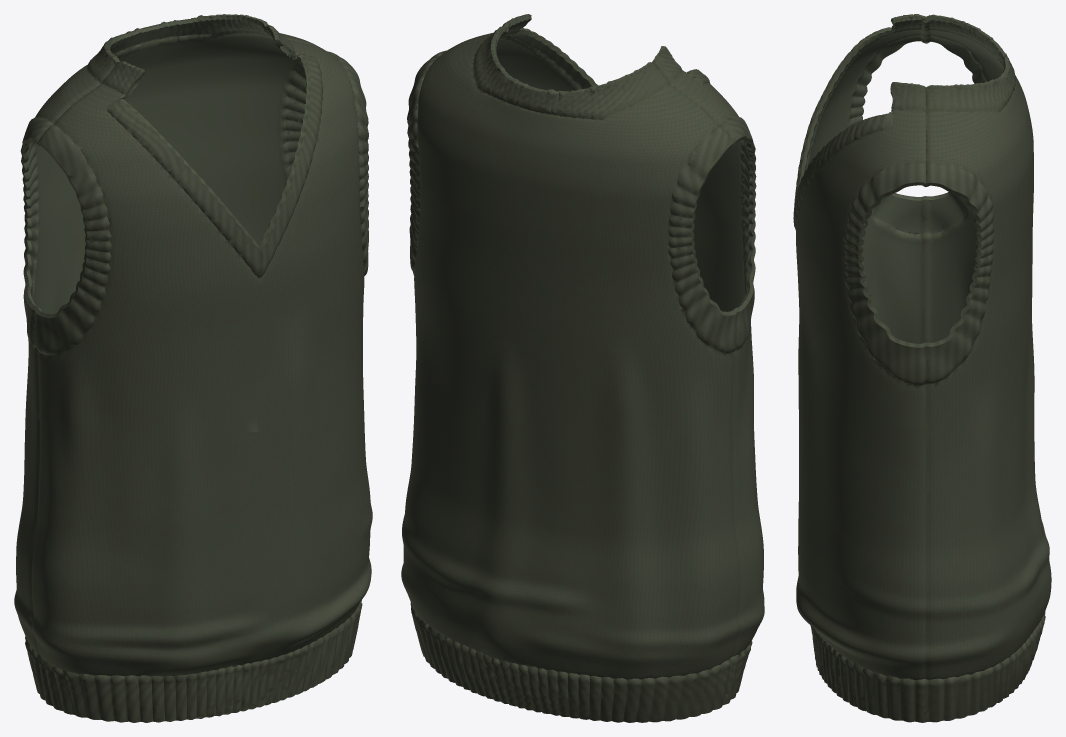
File: 07_chaleco_punto_pbr.glb
The picture shows the model from 3 angles, left to right: view 1: azimuth 30°, elevation 25°; view 2: azimuth 150°, elevation 25°; view 3: azimuth 270°, elevation 25°; orthographic projection. The views are drawn at different scales.
Visible parts, largest first — view 1: Camiseta PBR; view 2: Camiseta PBR; view 3: Camiseta PBR.
Part boxes in pixels (x1,y1,x2,y2): Camiseta PBR: (14, 14, 372, 722); Camiseta PBR: (401, 14, 764, 722); Camiseta PBR: (793, 14, 1051, 722).
Size of the model in its own units: 0.4109 by 0.7456 by 0.2876.
Materials: 1 (1 with a texture image).
